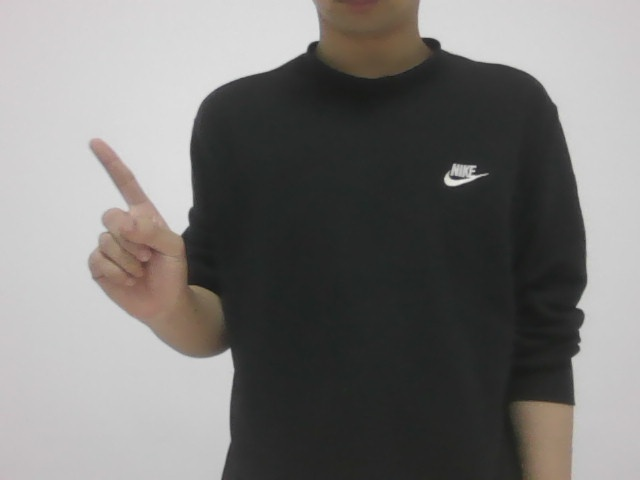what: (80, 123, 199, 336)
